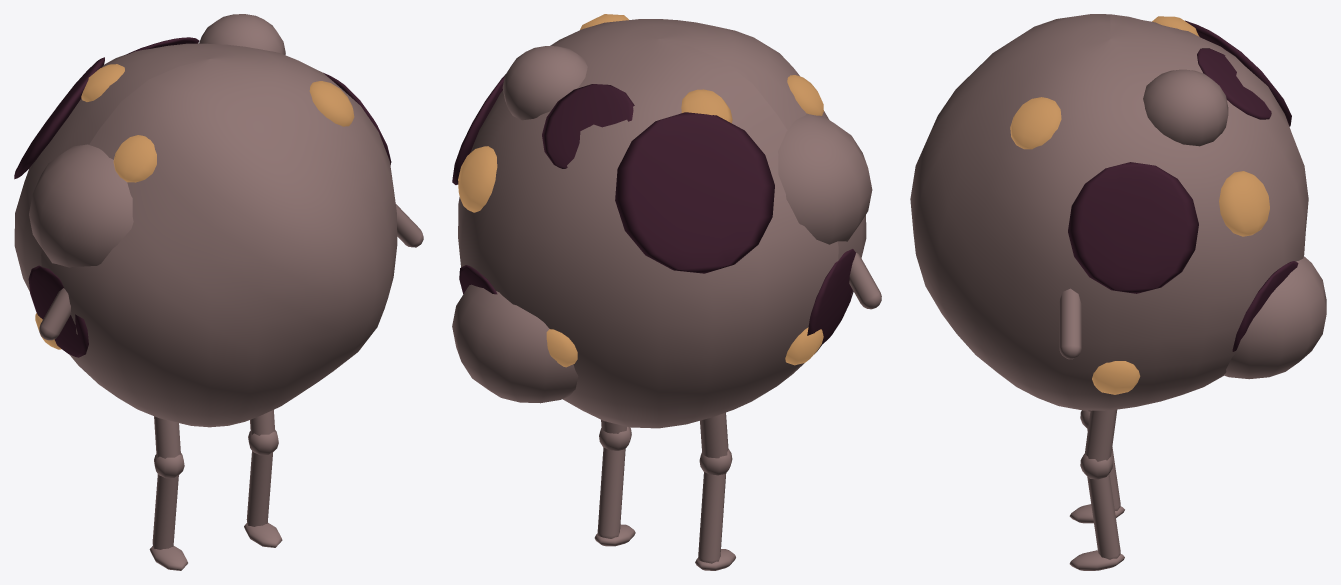
File: boursoufle.glb
3 views of the same model, side by side, from view 1: azimuth 30°, elevation 25°; view 2: azimuth 150°, elevation 25°; view 3: azimuth 270°, elevation 25° (orthographic). The views are drawn at different scales.
Parts seen in each view (by area): view 1: boursoufle, knee (×2), arm (×2), leg; view 2: boursoufle, knee (×2), leg, arm; view 3: boursoufle, knee (×2), arm, leg.
Part boxes in pixels (bbox=[...]): boursoufle: bbox=[14, 14, 397, 427]; knee (×2): bbox=[149, 430, 282, 570]; arm (×2): bbox=[39, 204, 423, 340]; leg: bbox=[154, 416, 180, 458]; boursoufle: bbox=[452, 14, 872, 428]; knee (×2): bbox=[594, 427, 735, 570]; leg: bbox=[700, 412, 728, 458]; arm: bbox=[849, 253, 881, 309]; boursoufle: bbox=[910, 14, 1326, 410]; knee (×2): bbox=[1069, 410, 1124, 570]; arm: bbox=[1059, 288, 1081, 359]; leg: bbox=[1084, 409, 1117, 461].
Bounding box in the file's own units: 0.9924 × 1.22 × 0.9057.
